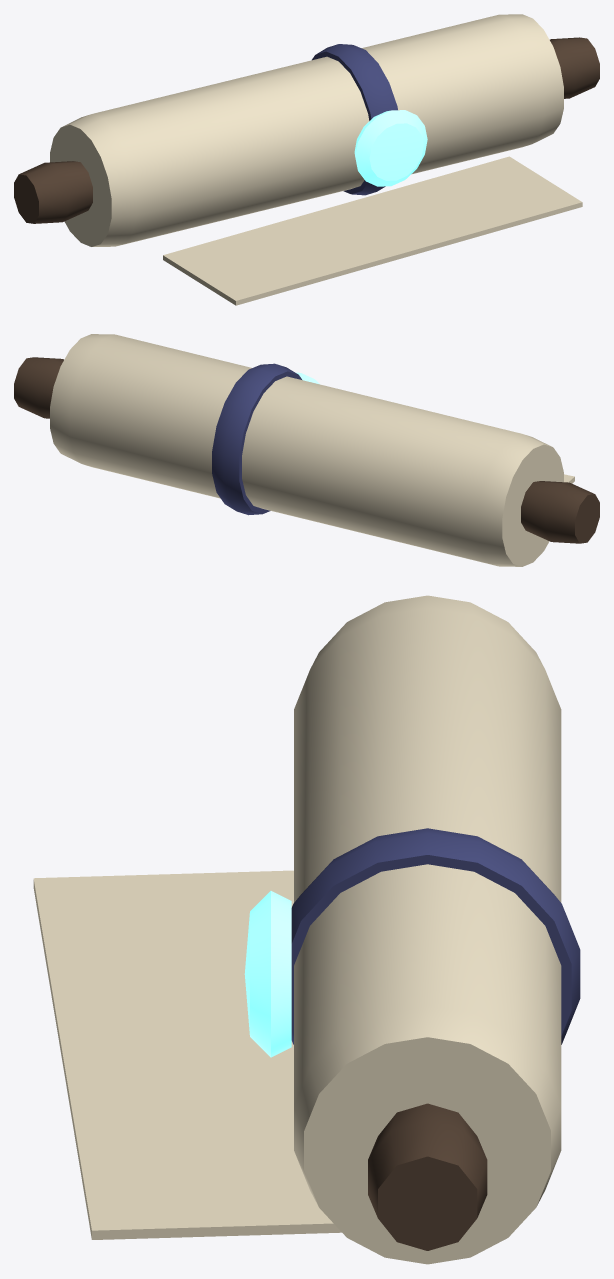
Rendered from return_scroll.glb.
The picture shows the model from 3 angles, top to bottom: view 1: azimuth 30°, elevation 25°; view 2: azimuth 150°, elevation 25°; view 3: azimuth 270°, elevation 25°; orthographic projection. The views are drawn at different scales.
Parts seen in each view (by area): view 1: return_scroll; view 2: return_scroll; view 3: return_scroll.
Boxes of the visible parts, x1,y1,x2,y2 form: return_scroll: (14,14,599,305); return_scroll: (14,334,599,566); return_scroll: (33,595,580,1264).
Bounding box in the file's own units: 0.248 × 0.0594 × 0.1046.
